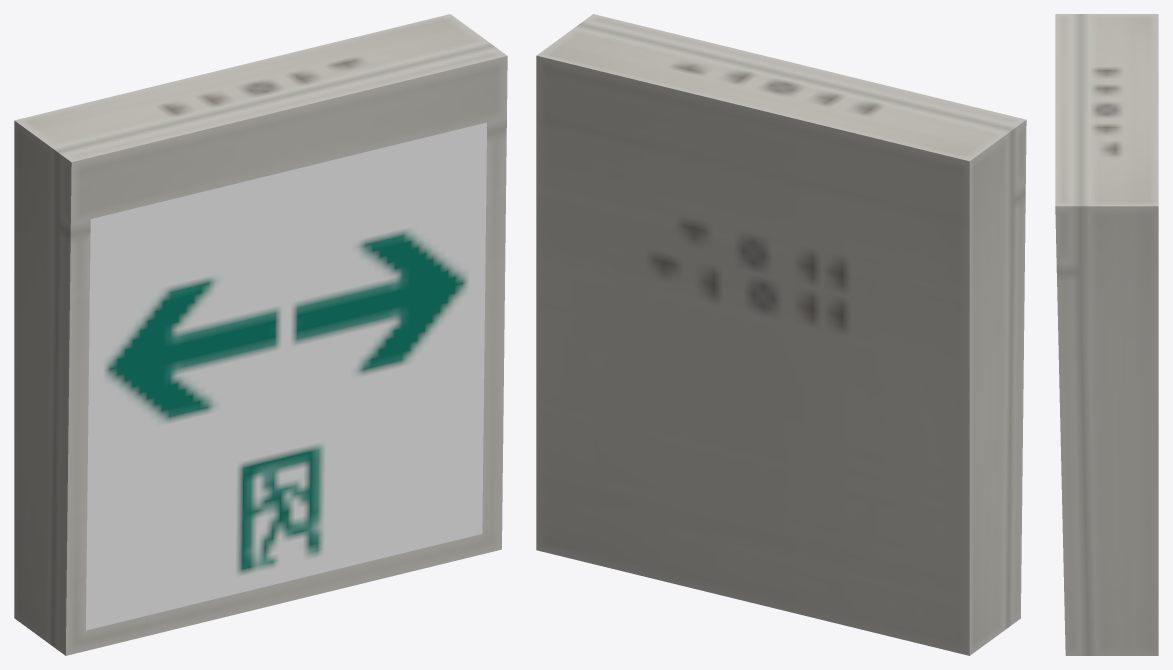
The model's file is SHW_Exitlight_mini_01_13.fbx.
The picture shows the model from 3 angles, left to right: view 1: azimuth 30°, elevation 25°; view 2: azimuth 150°, elevation 25°; view 3: azimuth 270°, elevation 25°; orthographic projection. The views are drawn at different scales.
Visible parts, largest first — view 1: shw_exitlight_mini_01_13; view 2: shw_exitlight_mini_01_13; view 3: shw_exitlight_mini_01_13.
Boxes of the visible parts, box(x1,y1,x2,y2) form: shw_exitlight_mini_01_13: box(14, 14, 507, 655); shw_exitlight_mini_01_13: box(536, 14, 1026, 655); shw_exitlight_mini_01_13: box(1055, 14, 1158, 655).
Size of the model in its own units: 22 by 24 by 5.
